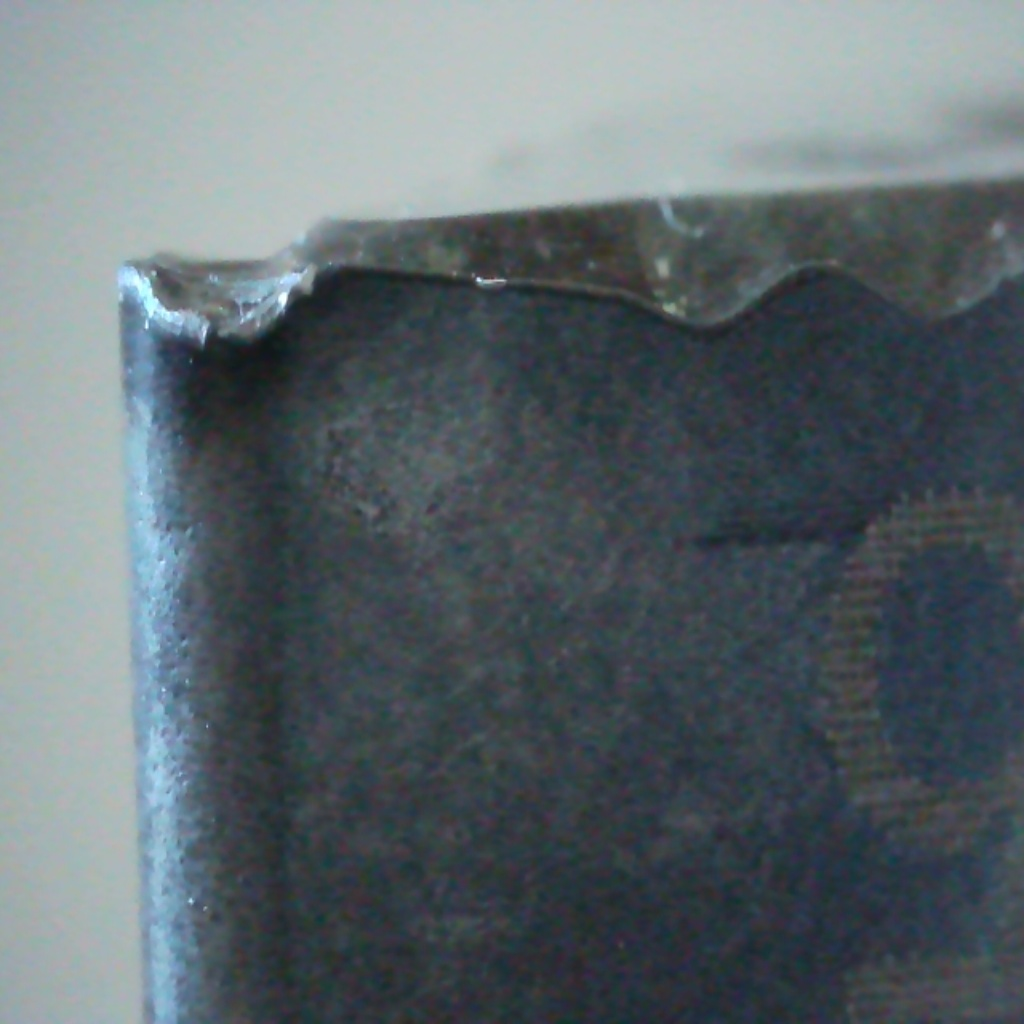flank_wear: (116, 256, 332, 365)
